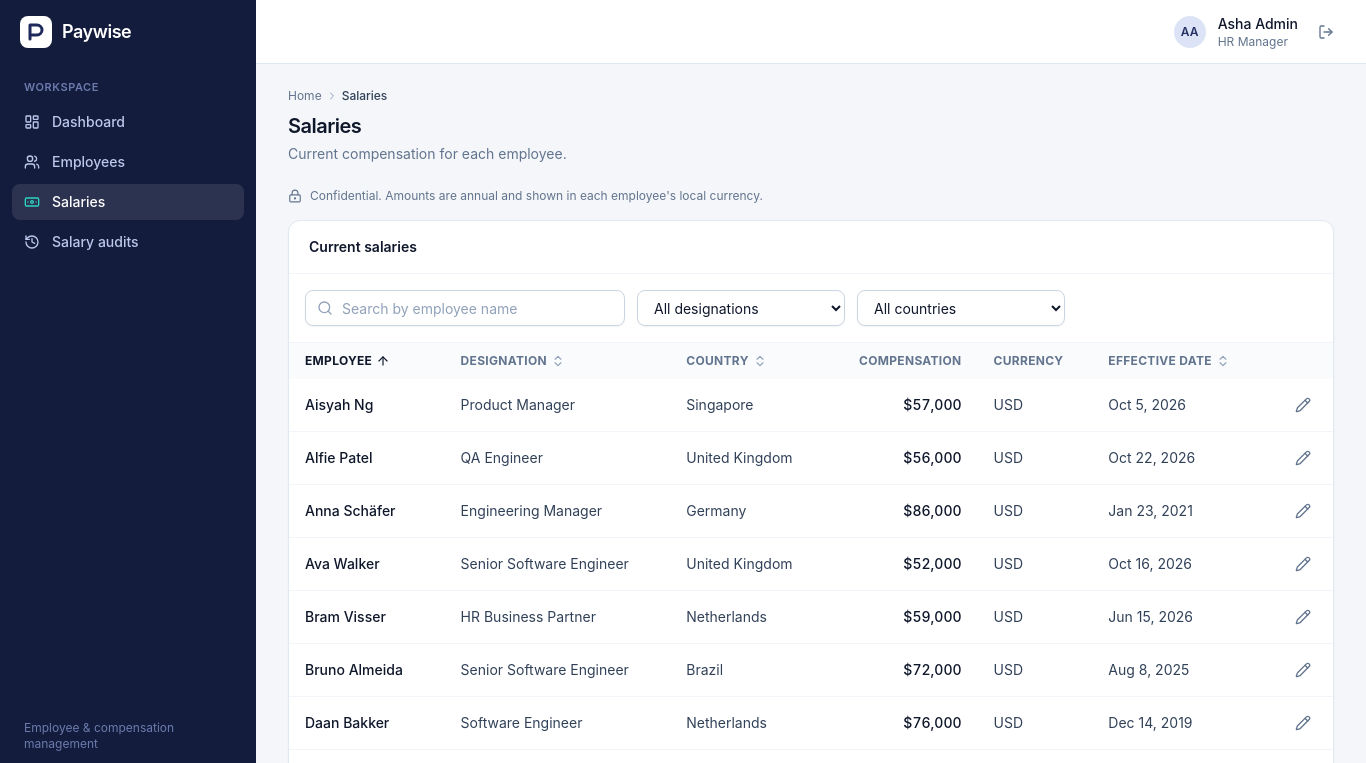
SalariesPage — roles › lets an HR Manager update a salary
The width and height of the screenshot is (1366, 763).
Click the button named "Update salary for" at (1303, 405), box [1289,391,1317,419]
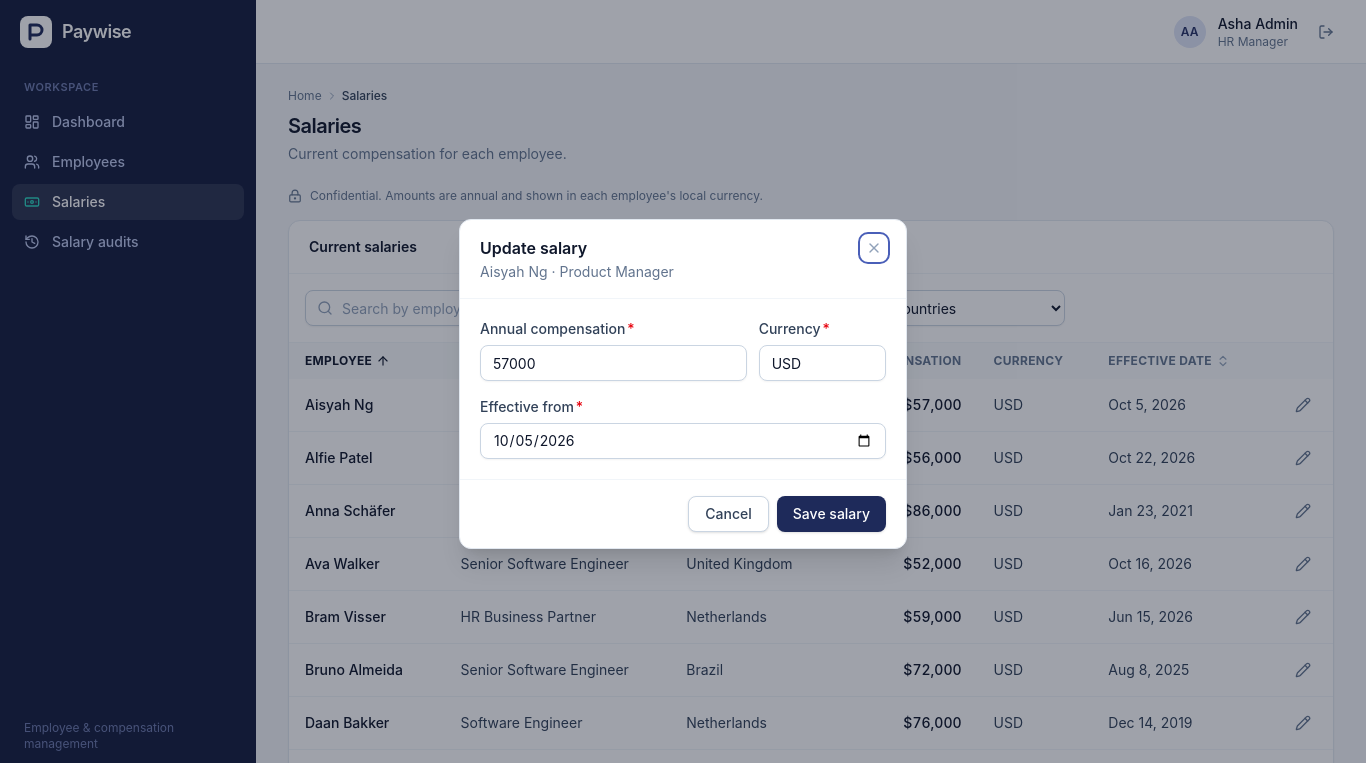
Replace the text in the number field labelled "Annual compensation*" with "123456" at (613, 363), box [480,345,747,381]
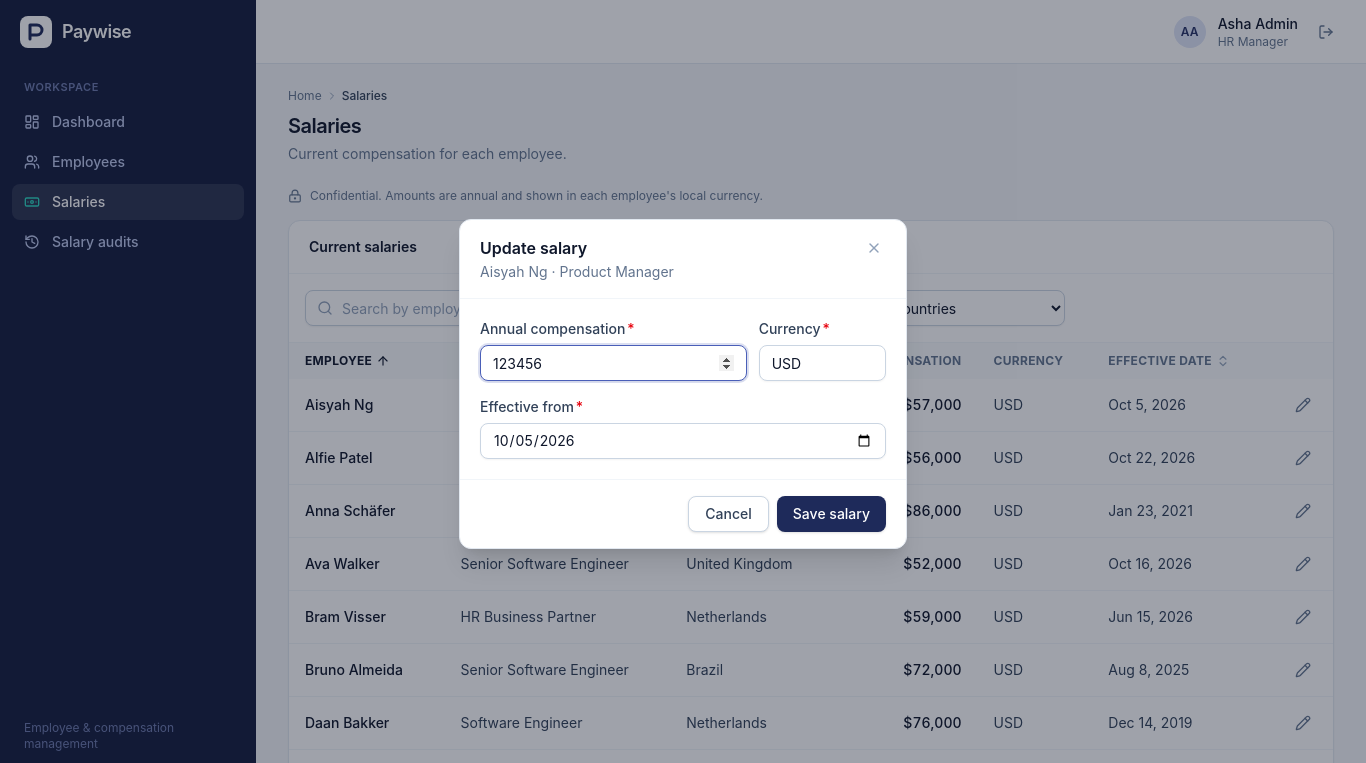
Click the button "Save salary" at (831, 514), box [777,496,886,532]
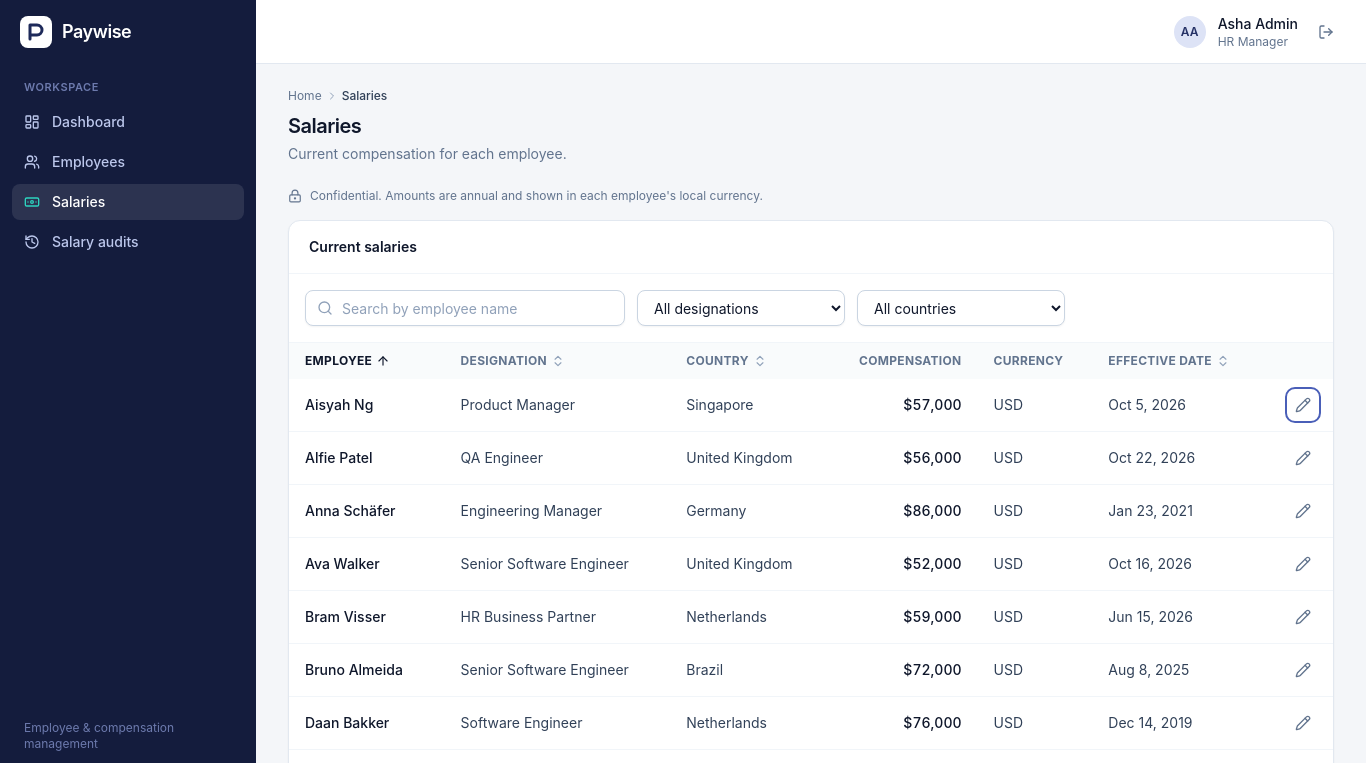
Result: the dialog is gone
